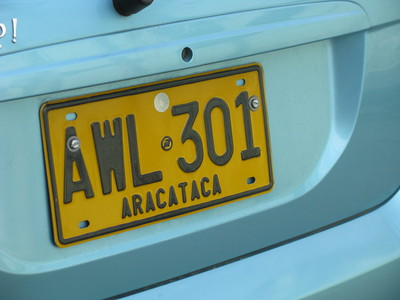placa_carro: (25, 49, 323, 260)
